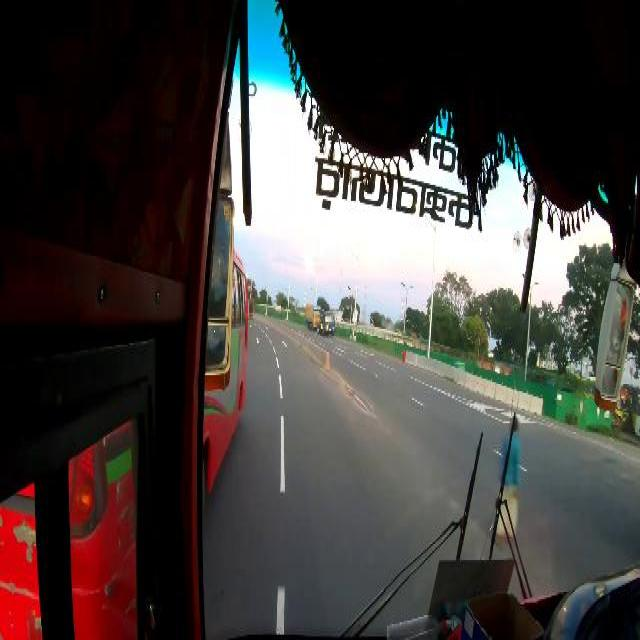18: (316, 311, 334, 334), (304, 304, 320, 329)
Truck: (208, 243, 248, 489), (574, 375, 620, 429)
